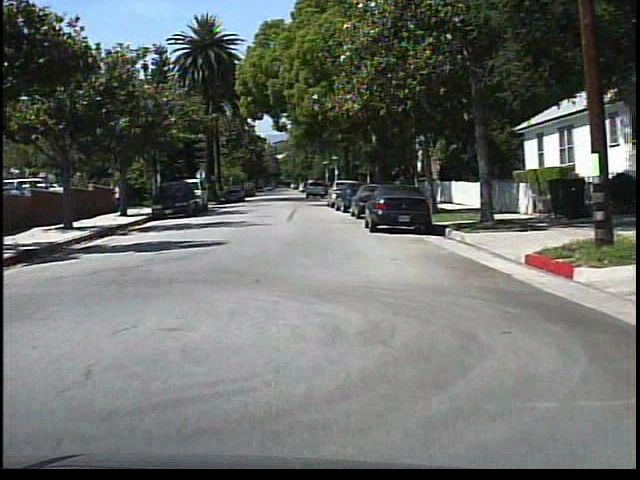person: (110, 178, 127, 217)
